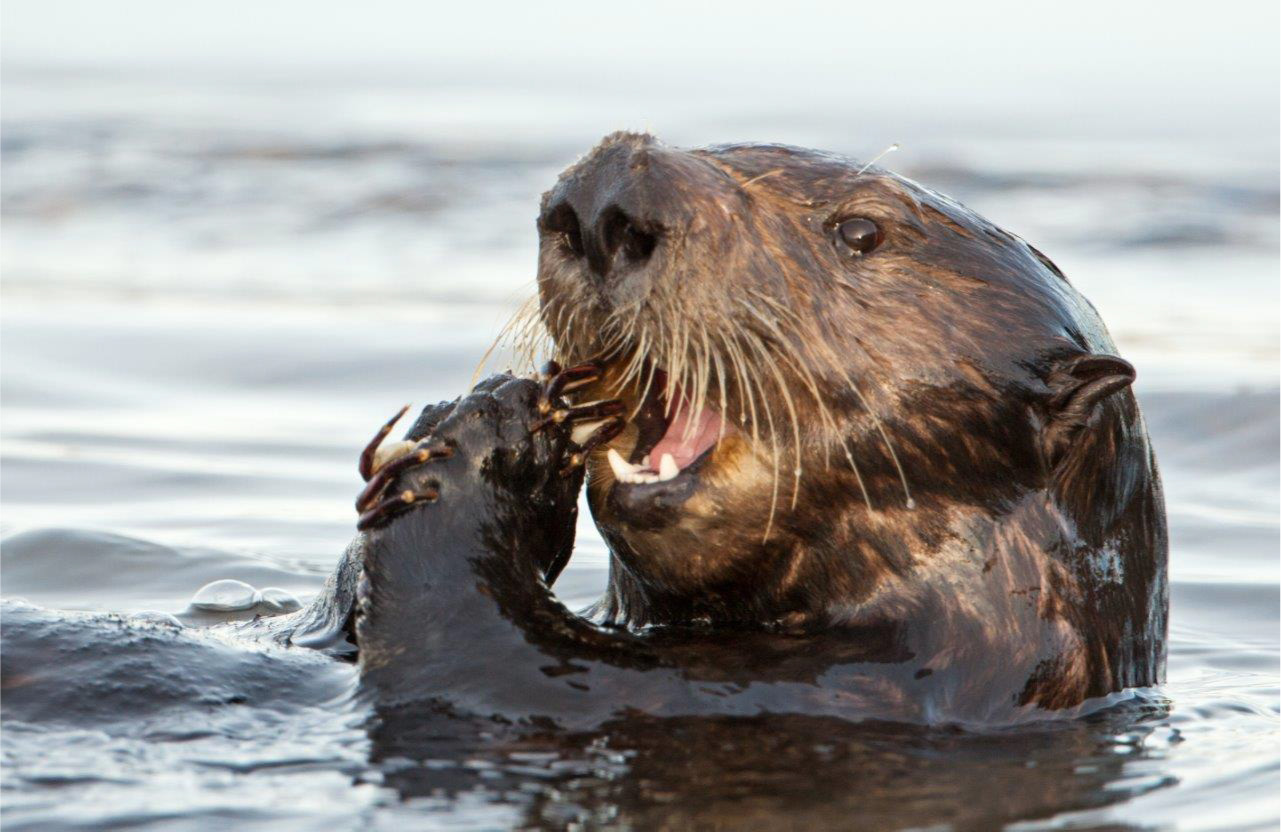otter: (345, 81, 1226, 752)
